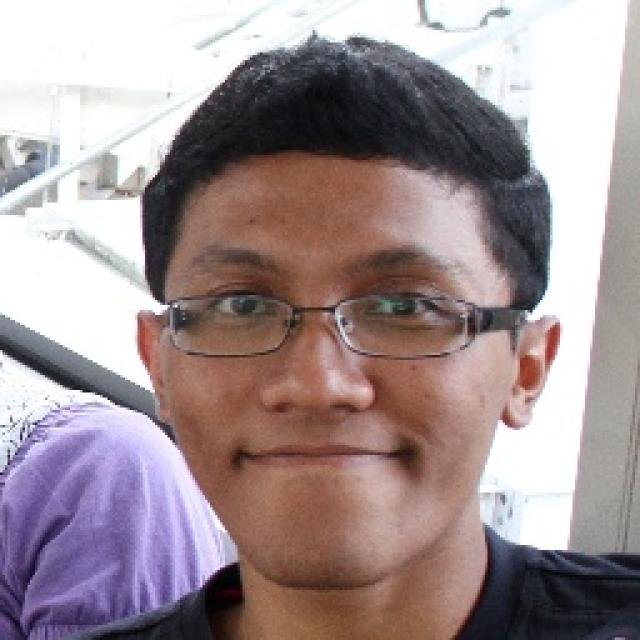earlobe: (501, 386, 537, 430), (151, 377, 175, 425)
eye: (364, 289, 435, 321), (206, 290, 272, 320)
nose: (258, 391, 372, 446)
wholeear: (502, 316, 563, 431), (136, 310, 176, 424)
